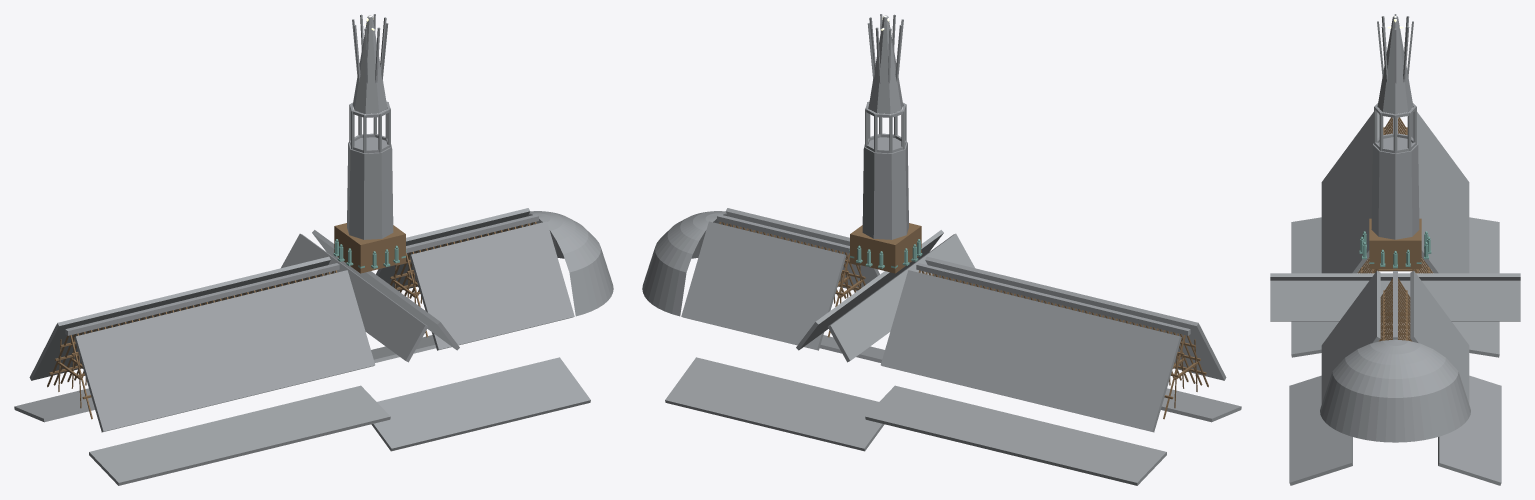
Rendered from 06_roof_fleche.glb.
3 views of the same model, side by side, from view 1: azimuth 30°, elevation 25°; view 2: azimuth 150°, elevation 25°; view 3: azimuth 270°, elevation 25° (orthographic).
Parts seen in each view (by area): view 1: roof_fleche_lead, roof_fleche_lead_nocol, roof_fleche_oak_nocol, roof_fleche_oak; view 2: roof_fleche_lead, roof_fleche_lead_nocol, roof_fleche_oak_nocol, roof_fleche_oak; view 3: roof_fleche_lead, roof_fleche_oak_nocol, roof_fleche_oak, roof_fleche_lead_nocol, roof_fleche_copper_nocol.
Boxes of the visible parts, <box> form: roof_fleche_lead: <box>14,15,613,485</box>; roof_fleche_lead_nocol: <box>65,14,538,335</box>; roof_fleche_oak_nocol: <box>47,222,536,419</box>; roof_fleche_oak: <box>334,223,405,273</box>; roof_fleche_lead: <box>642,15,1241,485</box>; roof_fleche_lead_nocol: <box>717,14,1190,335</box>; roof_fleche_oak_nocol: <box>719,222,1208,419</box>; roof_fleche_oak: <box>850,223,921,273</box>; roof_fleche_lead: <box>1270,15,1520,485</box>; roof_fleche_oak_nocol: <box>1357,117,1433,341</box>; roof_fleche_oak: <box>1369,218,1421,268</box>; roof_fleche_lead_nocol: <box>1377,14,1413,339</box>; roof_fleche_copper_nocol: <box>1359,231,1431,268</box>.
Size of what is drawn, in the model's own units: 118 by 82.09 by 48.
